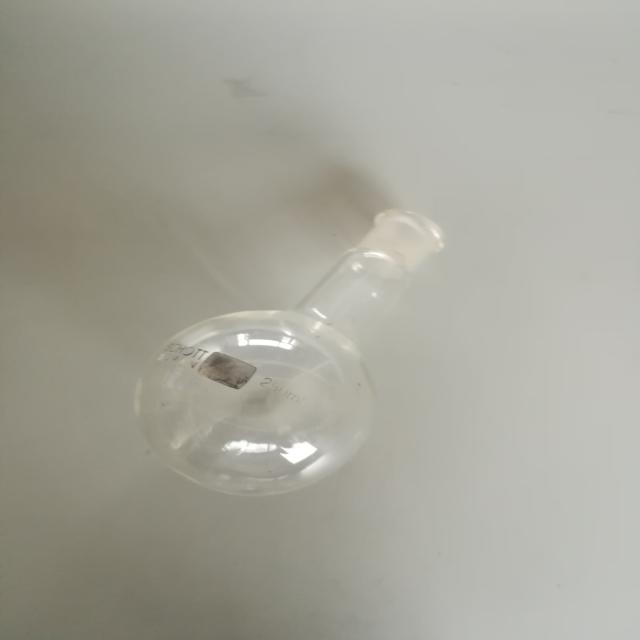Round_Bottom_Flask_Borosilicate_Glass_1_Neck: (99, 158, 492, 536)
